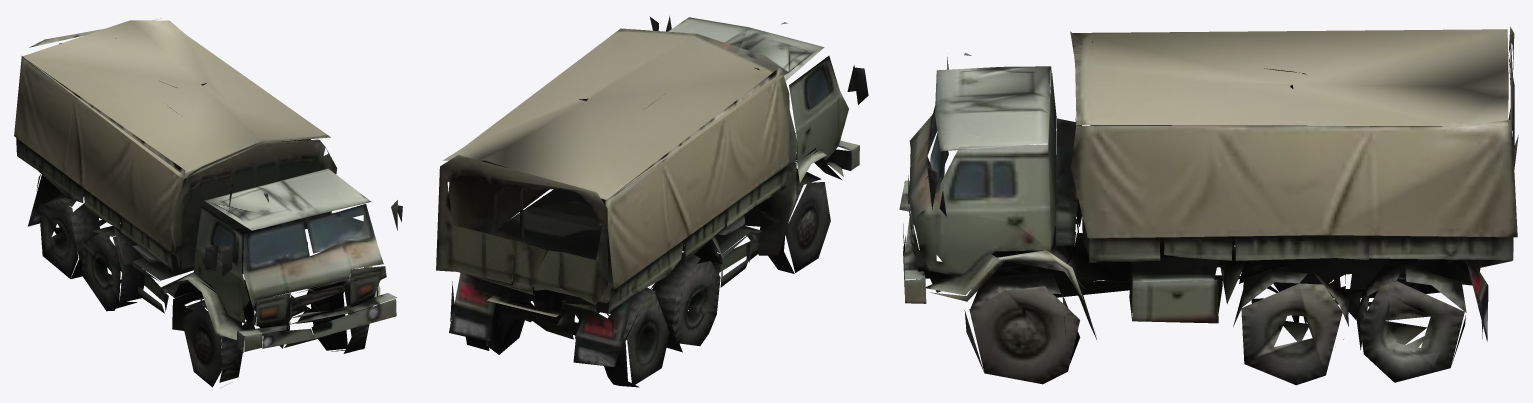
File: wreck-truck-lod.glb
3 views of the same model, side by side, from view 1: azimuth 30°, elevation 25°; view 2: azimuth 150°, elevation 25°; view 3: azimuth 270°, elevation 25° (orthographic). The views are drawn at different scales.
Parts seen in each view (by area): view 1: world; view 2: world; view 3: world.
Boxes of the visible parts, left/top/right/bottom form: world: left=14, top=18, right=402, bottom=387; world: left=436, top=16, right=868, bottom=387; world: left=899, top=26, right=1518, bottom=385.
Size of the model in its own units: 1.73 by 1.8 by 3.51.
1 material, 1 textured.
